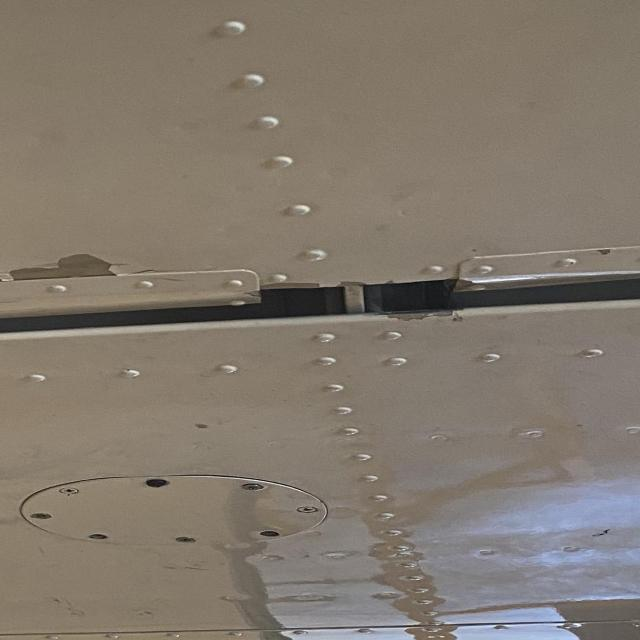Missing-head: (258, 528, 282, 540), (88, 533, 108, 541)
Paint-off: (0, 253, 117, 281), (382, 310, 460, 325), (262, 277, 324, 290), (592, 248, 619, 258), (342, 282, 366, 292)
